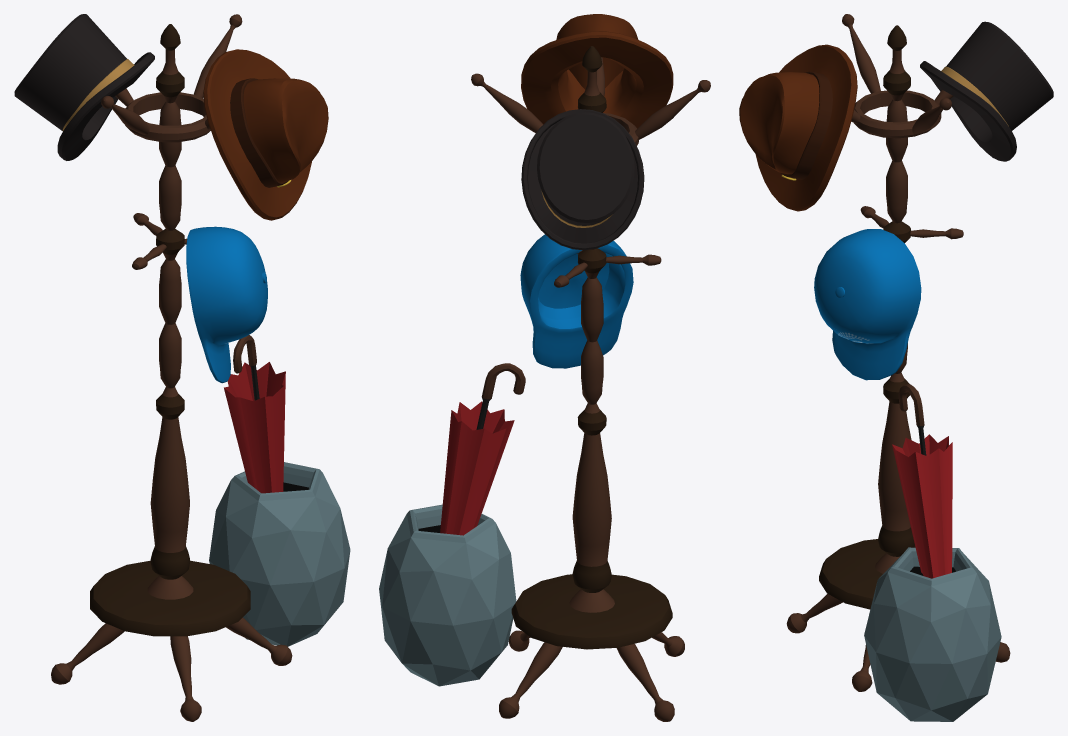
3 views of the same model, side by side, from view 1: azimuth 30°, elevation 25°; view 2: azimuth 150°, elevation 25°; view 3: azimuth 270°, elevation 25° (orthographic). The views are drawn at different scales.
Visible parts, largest first — view 1: Icosphere.001; view 2: Icosphere.001; view 3: Icosphere.001.
Part boxes in pixels (x1,y1,x2,y2): Icosphere.001: (14, 14, 350, 721); Icosphere.001: (379, 14, 710, 721); Icosphere.001: (739, 14, 1053, 721).
Bounding box in the file's own units: 0.8397 × 1.81 × 0.8298.
8 materials, 2 textured.
